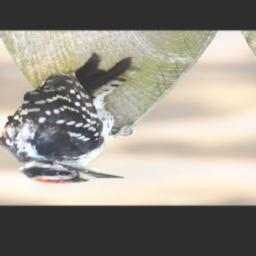Woodpecker: (0, 53, 132, 184)
